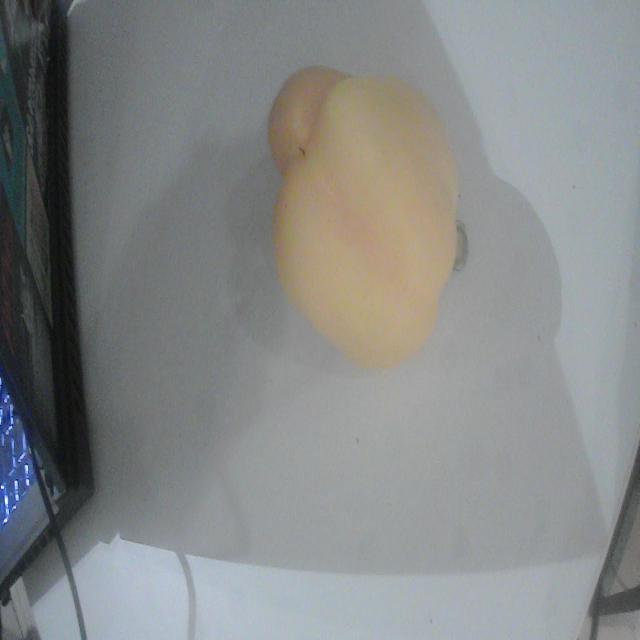Bell Pepper: (268, 67, 458, 368)
